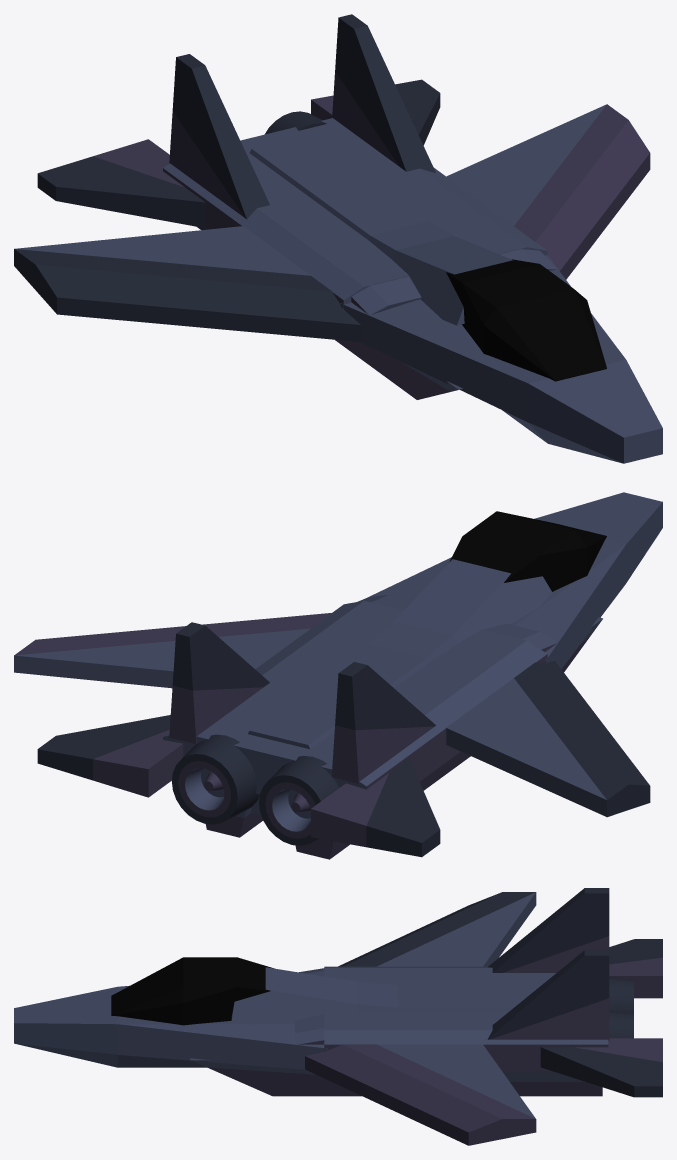
The picture shows the model from 3 angles, top to bottom: view 1: azimuth 30°, elevation 25°; view 2: azimuth 150°, elevation 25°; view 3: azimuth 270°, elevation 25°; orthographic projection. The views are drawn at different scales.
Visible parts, largest first — view 1: wing_longSlant (×2), rudder (×4), hull_upper (×2), hull_topMiddle (×3), window_pilot, hull_lowerFrontPoint, rudder_simple, hull_topEngine, engine_round; view 2: rudder (×4), wing_longSlant (×2), hull_upper (×2), hull_topMiddle (×3), engine_round (×2), window_pilot, rudder_simple (×2), hull_lowerFrontPoint, hull_topEngine (×2); view 3: wing_longSlant (×2), rudder (×4), hull_upper (×2), hull_topMiddle (×3), window_pilot, rudder_simple, hull_lowerFrontPoint, hull_topEngine, engine_round (×2).
Boxes of the visible parts, bbox=[...] form: wing_longSlant (×2): bbox=[14, 104, 650, 341]; rudder (×4): bbox=[37, 14, 440, 228]; hull_upper (×2): bbox=[163, 118, 557, 315]; hull_topMiddle (×3): bbox=[249, 134, 512, 325]; window_pilot: bbox=[446, 259, 606, 381]; hull_lowerFrontPoint: bbox=[462, 333, 662, 463]; rudder_simple: bbox=[340, 301, 528, 422]; hull_topEngine: bbox=[335, 339, 462, 399]; engine_round: bbox=[264, 111, 326, 134]; rudder (×4): bbox=[37, 622, 440, 857]; wing_longSlant (×2): bbox=[14, 612, 650, 817]; hull_upper (×2): bbox=[163, 595, 557, 794]; hull_topMiddle (×3): bbox=[248, 559, 552, 749]; engine_round (×2): bbox=[171, 734, 339, 845]; window_pilot: bbox=[449, 511, 606, 591]; rudder_simple (×2): bbox=[369, 544, 626, 668]; hull_lowerFrontPoint: bbox=[534, 492, 662, 592]; hull_topEngine (×2): bbox=[205, 617, 602, 859]; wing_longSlant (×2): bbox=[305, 892, 536, 1145]; rudder (×4): bbox=[487, 888, 662, 1097]; hull_upper (×2): bbox=[295, 966, 608, 1071]; hull_topMiddle (×3): bbox=[231, 967, 541, 1024]; window_pilot: bbox=[111, 957, 274, 1025]; rudder_simple: bbox=[117, 1024, 327, 1069]; hull_lowerFrontPoint: bbox=[14, 986, 221, 1067]; hull_topEngine: bbox=[190, 1058, 602, 1096]; engine_round (×2): bbox=[609, 977, 633, 1038].
Bounding box in the file's own units: 60.62 × 18.81 × 73.22.
